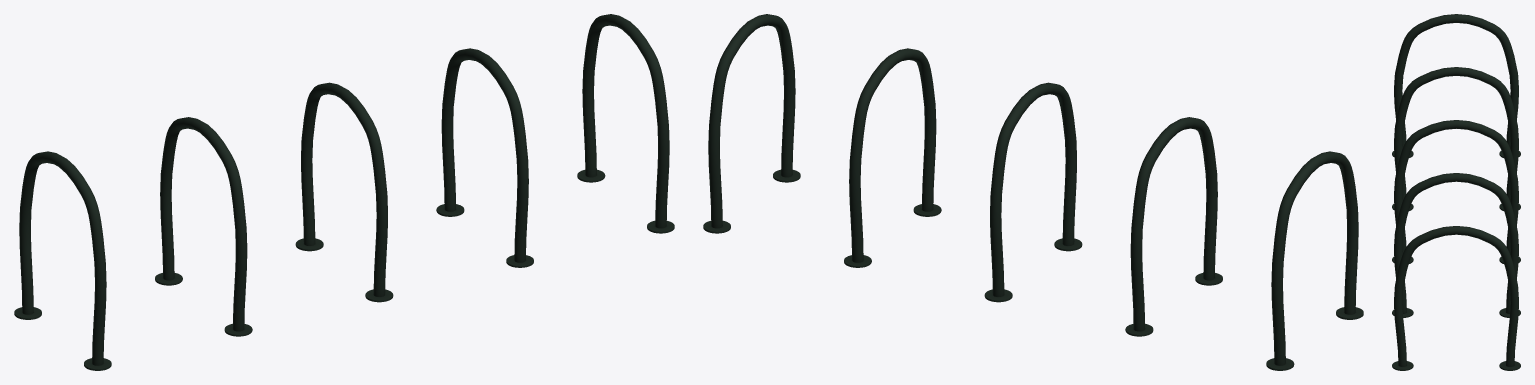
The model's file is green-five.glb.
3 renders of one model, left to right at view 1: azimuth 30°, elevation 25°; view 2: azimuth 150°, elevation 25°; view 3: azimuth 270°, elevation 25°, orthographic. The views are drawn at different scales.
Visible parts, largest first — view 1: paint_primary; view 2: paint_primary; view 3: paint_primary.
Boxes of the visible parts, x1,y1,x2,y2 form: paint_primary: (14,14,674,370); paint_primary: (703,14,1363,370); paint_primary: (1392,14,1520,370).
Size of the model in its own units: 2.92 by 0.8632 by 0.7201.
Materials: 1 (1 with a texture image).
